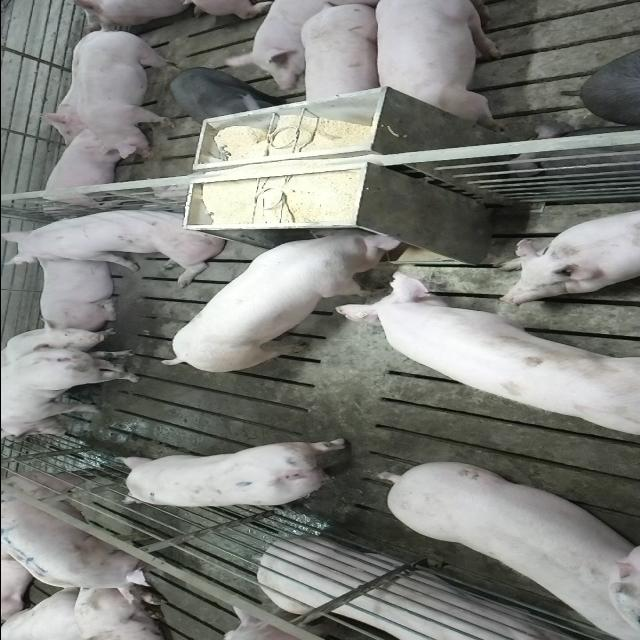Feeding: (320, 270, 634, 442), (162, 220, 412, 370)
Sitting: (4, 203, 227, 284), (1, 323, 144, 441)
Standing: (374, 456, 636, 634), (0, 474, 188, 608), (119, 438, 355, 511), (372, 2, 509, 126), (78, 24, 182, 160), (300, 5, 382, 111), (166, 65, 274, 121)
Sternal_lying: (236, 539, 590, 640), (495, 202, 640, 302), (36, 132, 132, 210), (35, 250, 121, 330)
